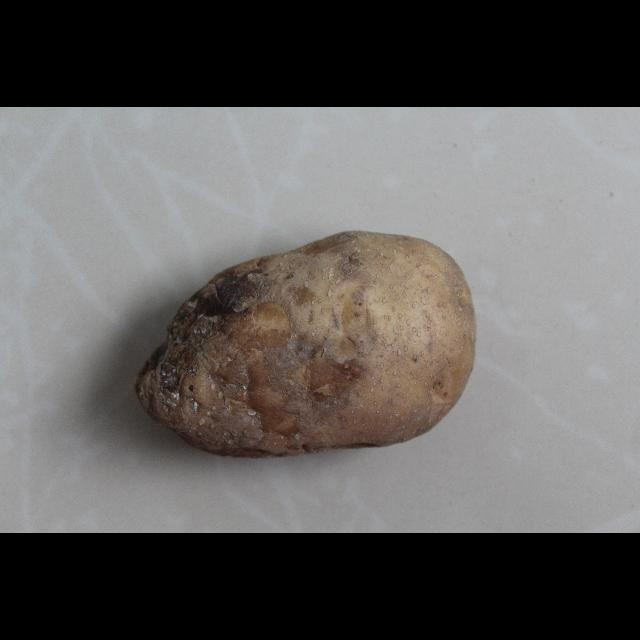Diseased-fungal potato: (134, 226, 478, 458)
